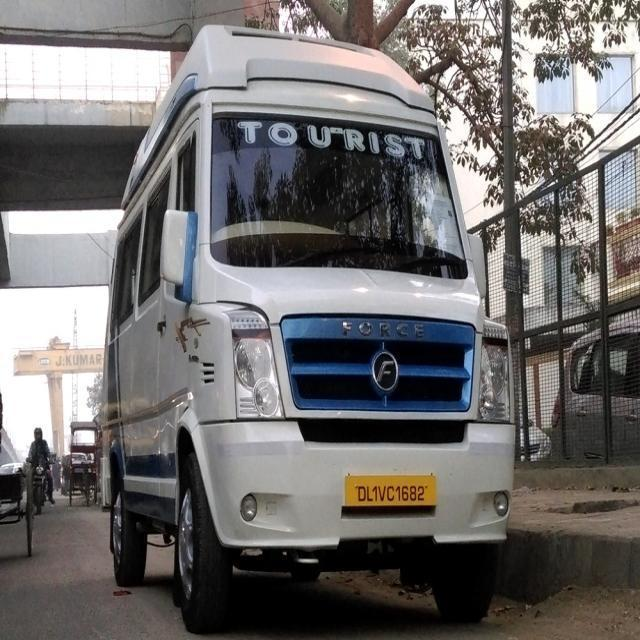Auto: (60, 418, 102, 508)
bike: (23, 424, 58, 510)
car: (549, 312, 638, 464)
van: (97, 22, 520, 634), (1, 469, 638, 638)
